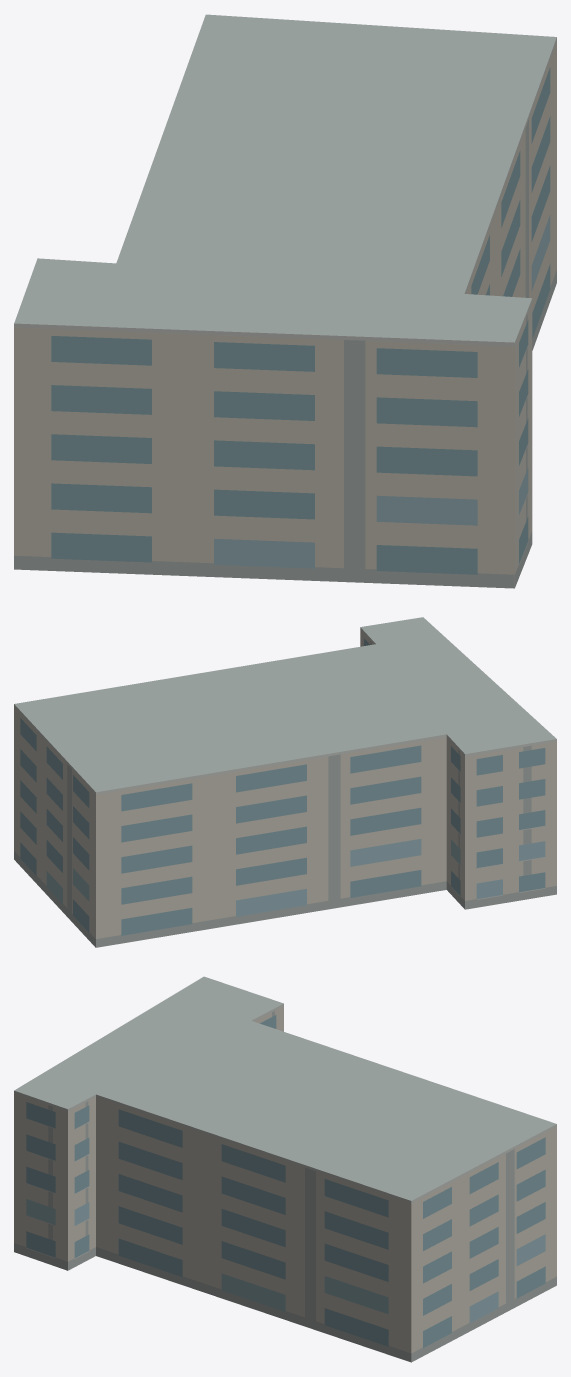
The model's file is residential-ce043acf-43d7-403e-81e4-1250ab0ea7f2.glb.
3 renders of one model, top to bottom at view 1: azimuth 30°, elevation 25°; view 2: azimuth 150°, elevation 25°; view 3: azimuth 270°, elevation 25°, orthographic. The views are drawn at different scales.
Visible parts, largest first — view 1: residential-ce043acf-43d7-403e-81e4-1250ab0ea7f2.tmp; view 2: residential-ce043acf-43d7-403e-81e4-1250ab0ea7f2.tmp; view 3: residential-ce043acf-43d7-403e-81e4-1250ab0ea7f2.tmp.
Part boxes in pixels (x1,y1,x2,y2): residential-ce043acf-43d7-403e-81e4-1250ab0ea7f2.tmp: (14,14,556,588); residential-ce043acf-43d7-403e-81e4-1250ab0ea7f2.tmp: (14,617,556,947); residential-ce043acf-43d7-403e-81e4-1250ab0ea7f2.tmp: (14,976,556,1362).
Size of the model in its own units: 45.47 by 15.25 by 46.46.
